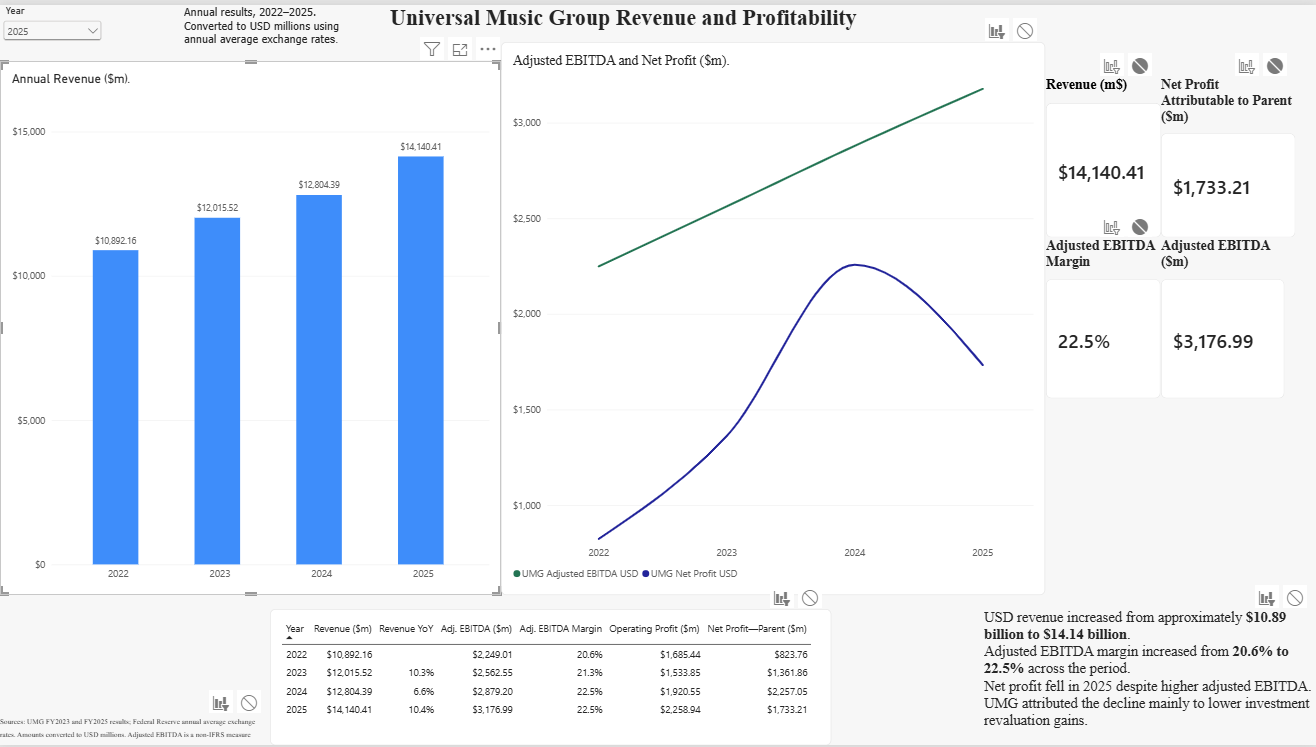

What the dashboard file says about the page in this screenshot:
{"tool":"powerbi","page":{"name":"Company Overview.","canvas":[1920,1080],"ordinal":0},"visuals":[{"type":"textbox","box":[568.8,0,779.4,105.3],"z":0},{"type":"textbox","box":[267.8,0,252.8,105.3],"z":1},{"type":"slicer","fields":{"Values":["Years.Year"]},"box":[0,0,153.5,105.3],"z":2},{"type":"cardVisual","title":"\tRevenue (m$)","fields":{"Data":["UMG_Group.UMG Revenue USD"]},"box":[1525.8,105.3,168.5,234.7],"z":3},{"type":"cardVisual","title":"Adjusted EBITDA ($m)","fields":{"Data":["UMG_Group.UMG Adjusted EBITDA USD"]},"box":[1693.9,339.9,180.9,234.9],"z":4},{"type":"cardVisual","title":"Adjusted EBITDA Margin","fields":{"Data":["UMG_Group.UMG Adj EBITDA Margin"]},"box":[1526.1,339.9,167.8,234.9],"z":5},{"type":"cardVisual","title":"\tNet Profit Attributable to Parent ($m)","fields":{"Data":["UMG_Group.UMG Net Profit USD"]},"box":[1693.9,105,197,234.9],"z":6},{"type":"clusteredColumnChart","title":"Annual Revenue ($m).","fields":{"Category":["Years.Year"],"Y":["UMG_Group.UMG Revenue USD"]},"box":[0,81.3,731.3,779.4],"z":7},{"type":"lineChart","title":"Adjusted EBITDA and Net Profit ($m).","fields":{"Category":["Years.Year"],"Y":["UMG_Group.UMG Adjusted EBITDA USD","UMG_Group.UMG Net Profit USD"]},"box":[731.3,54.2,794.5,806.5],"z":8},{"type":"tableEx","fields":{"Values":["Years.Year","UMG_Group.UMG Revenue USD","UMG_Group.UMG Revenue YoY USD","UMG_Group.UMG Adjusted EBITDA USD","UMG_Group.UMG Adj EBITDA Margin","UMG_Group.UMG Operating Profit USD","UMG_Group.UMG Net Profit USD"]},"box":[394.2,881.8,818.6,198.6],"z":9},{"type":"textbox","box":[1435.5,881.8,484.5,198.6],"z":10},{"type":"textbox","box":[0,1034.4,393.9,46.7],"z":11}]}

Visuals, with their boxes in screenshot pixels (x1, y1, x2, y2), scaled from the page's 1920x1080 canvas onto the 1316x747 screenshot:
textbox: [left=390, top=0, right=924, bottom=73]
textbox: [left=184, top=0, right=357, bottom=73]
slicer - Years.Year: [left=0, top=0, right=105, bottom=73]
"	Revenue (m$)" cardVisual: [left=1046, top=73, right=1161, bottom=235]
"Adjusted EBITDA ($m)" cardVisual: [left=1161, top=235, right=1285, bottom=398]
"Adjusted EBITDA Margin" cardVisual: [left=1046, top=235, right=1161, bottom=398]
"	Net Profit Attributable to Parent ($m)" cardVisual: [left=1161, top=73, right=1296, bottom=235]
"Annual Revenue ($m)." clusteredColumnChart: [left=0, top=56, right=501, bottom=595]
"Adjusted EBITDA and Net Profit ($m)." lineChart: [left=501, top=37, right=1046, bottom=595]
tableEx - Years.Year x UMG_Group.UMG Revenue USD: [left=270, top=610, right=831, bottom=746]
textbox: [left=984, top=610, right=1315, bottom=746]
textbox: [left=0, top=715, right=270, bottom=746]
